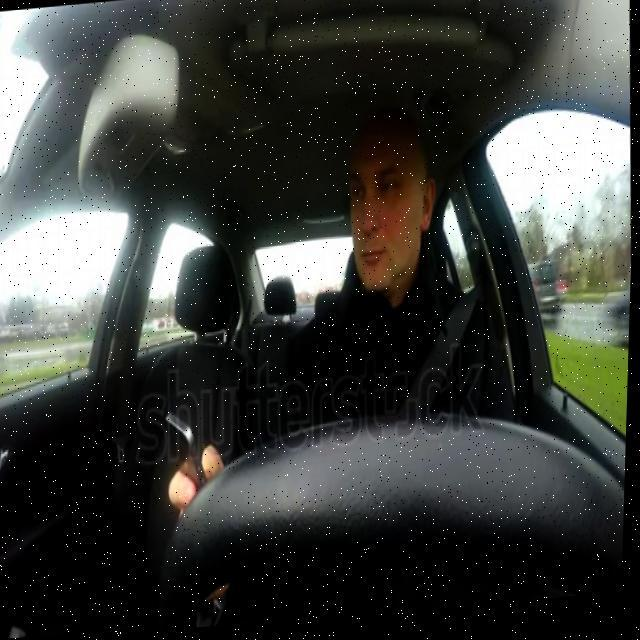PhoneCall: (162, 410, 215, 506)
